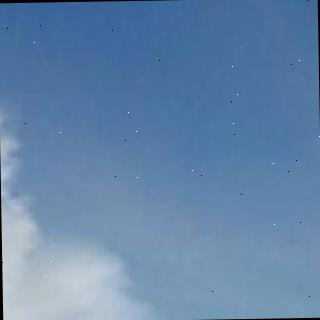smoke: (0, 83, 144, 320)
